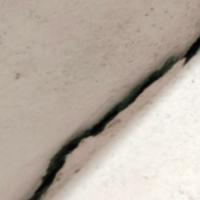crack: (29, 34, 199, 199)
